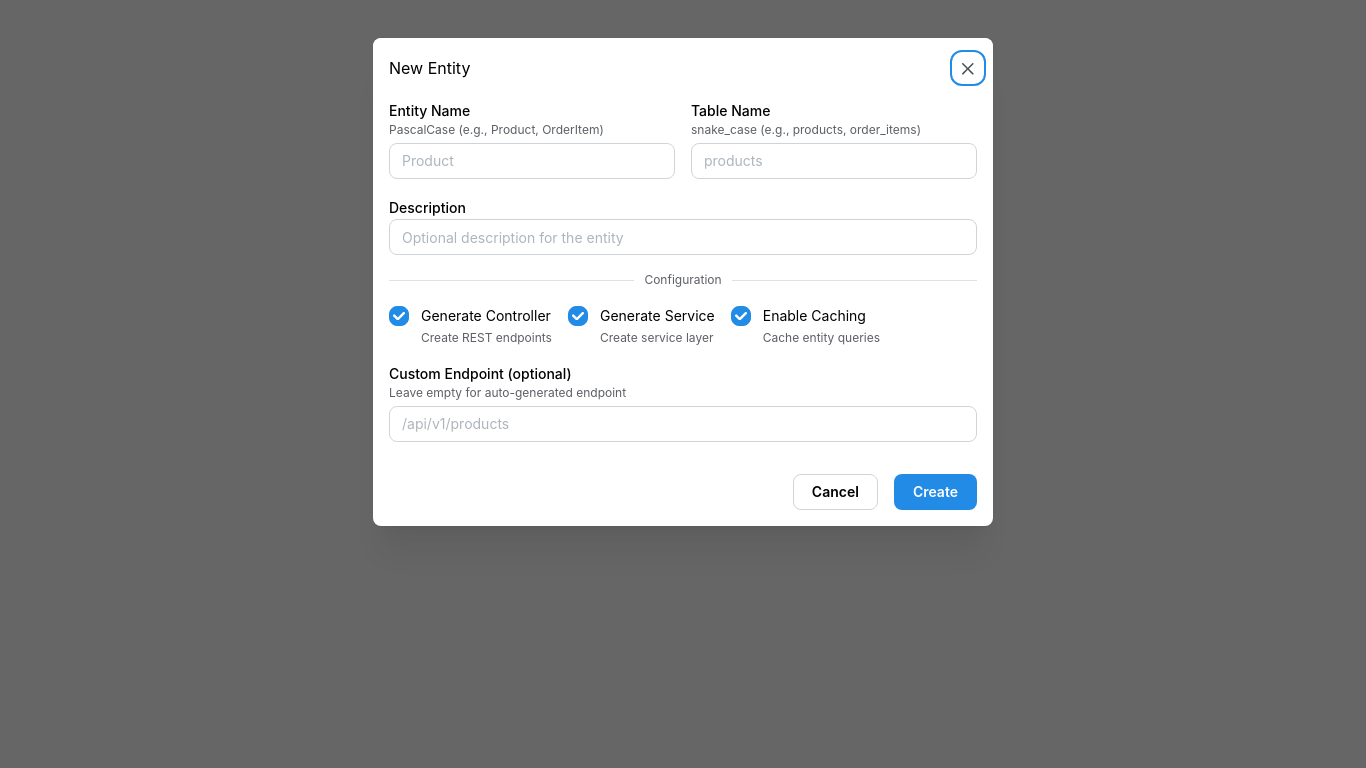
EntityForm › Form Validation › should show error when entity name is empty
The image size is (1366, 768).
Click the button "Create" at x=935, y=492, box [894, 474, 977, 510]
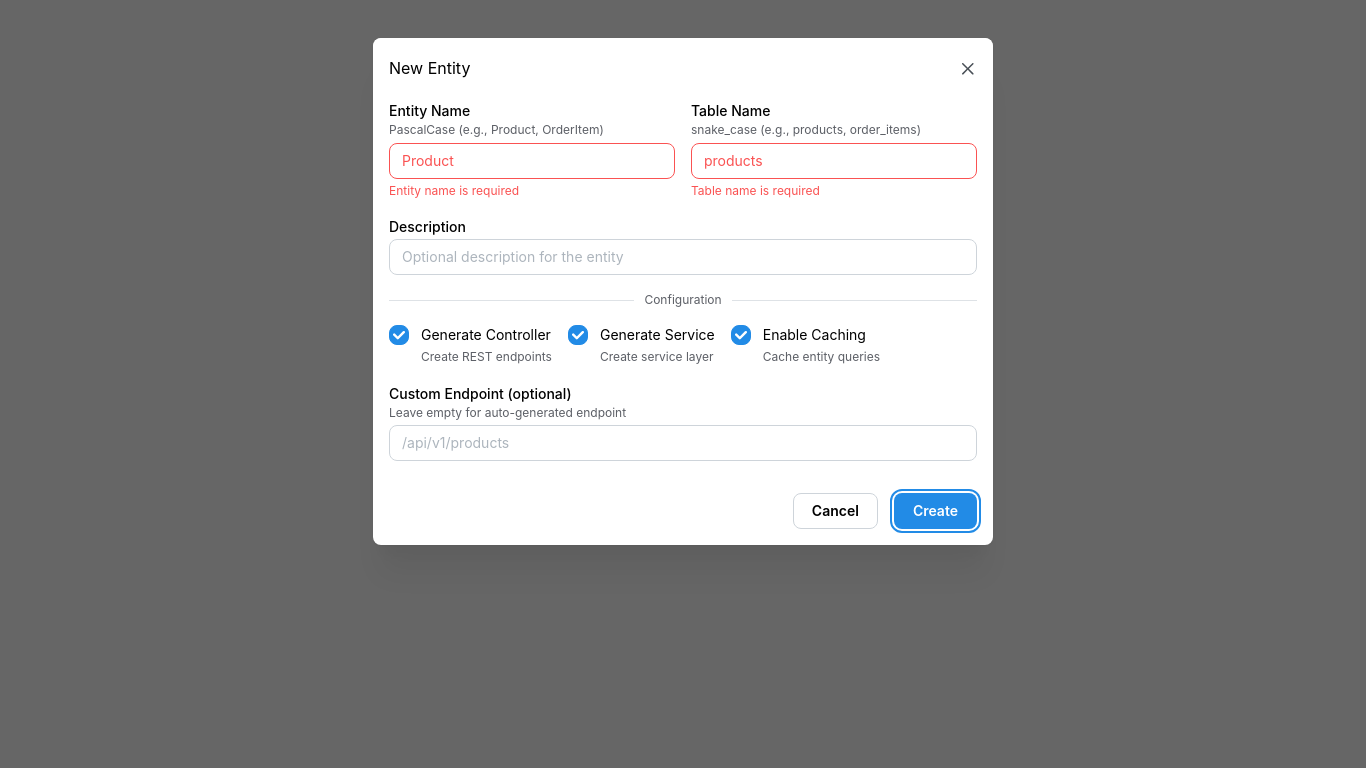
Expected: the text "Entity name is required" is shown, [389, 183, 519, 198]
